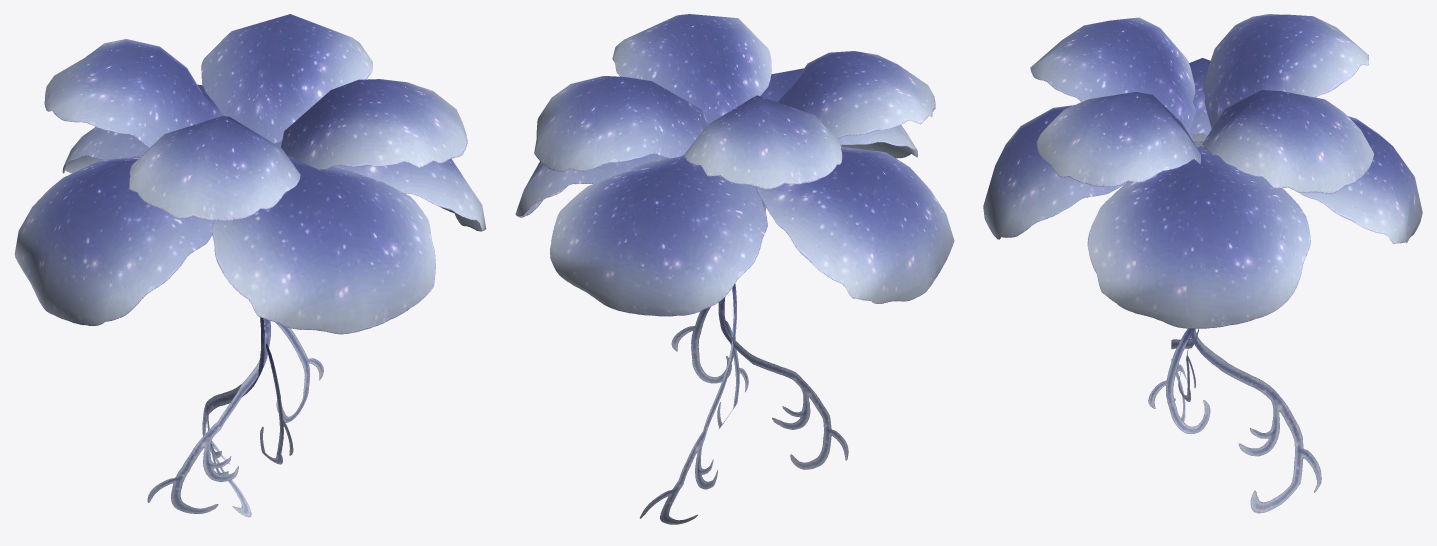
3 views of the same model, side by side, from view 1: azimuth 30°, elevation 25°; view 2: azimuth 150°, elevation 25°; view 3: azimuth 270°, elevation 25° (orthographic). The views are drawn at different scales.
Bounding box in the file's own units: 2.91 × 3.36 × 2.89.
Materials: 1 (1 with a texture image).
